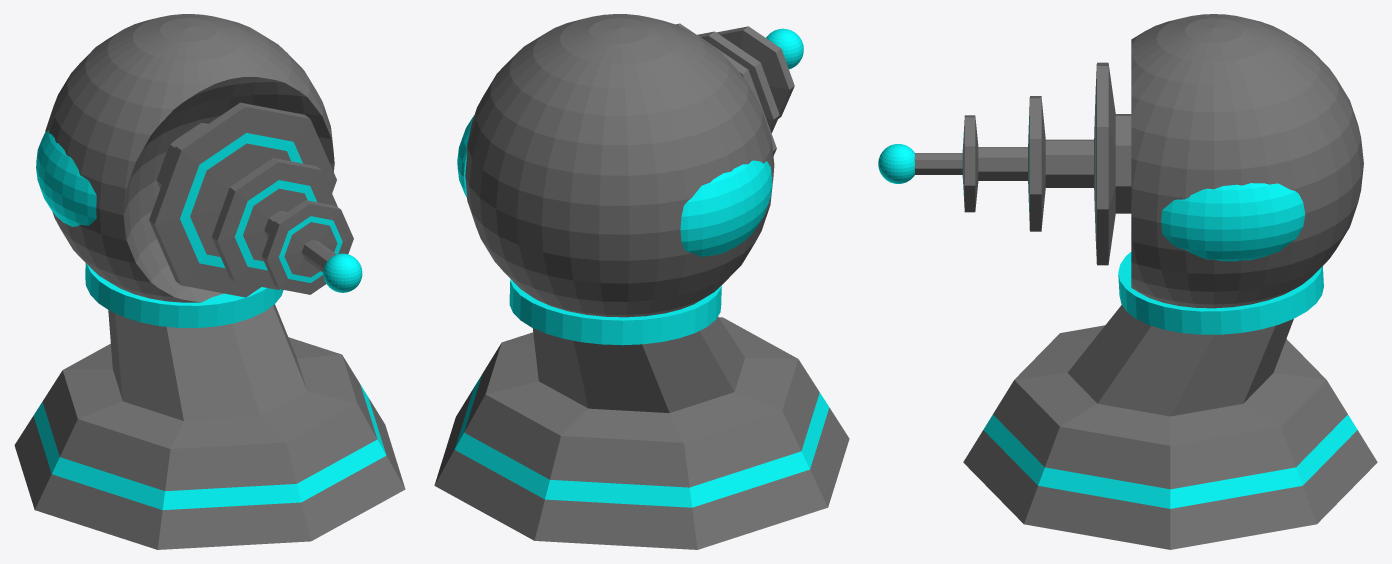
File: Laser_Tower.fbx
The picture shows the model from 3 angles, left to right: view 1: azimuth 30°, elevation 25°; view 2: azimuth 150°, elevation 25°; view 3: azimuth 270°, elevation 25°; orthographic projection. The views are drawn at different scales.
Parts seen in each view (by area): view 1: Sphere; view 2: Sphere; view 3: Sphere.
Part boxes in pixels (<box>): Sphere: <box>14,14,405,549</box>; Sphere: <box>434,14,849,549</box>; Sphere: <box>878,14,1377,549</box>.
Bounding box in the file's own units: 445 × 514 × 536.
1 material, 1 textured.
